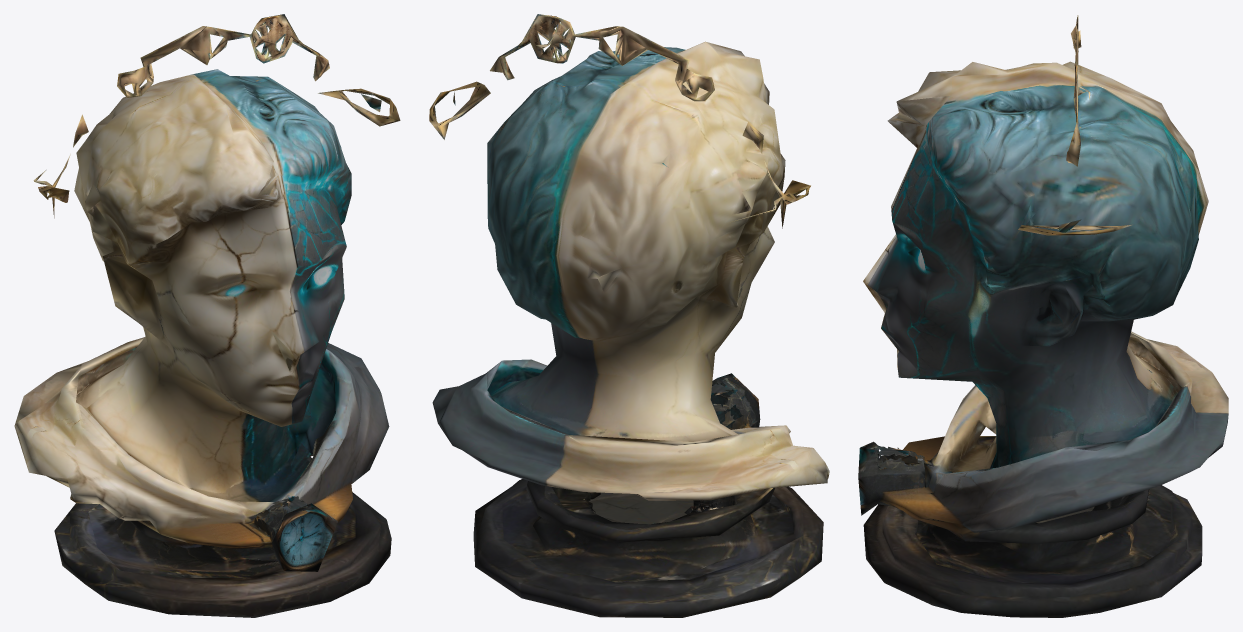
3 renders of one model, left to right at view 1: azimuth 30°, elevation 25°; view 2: azimuth 150°, elevation 25°; view 3: azimuth 270°, elevation 25°, orthographic. The views are drawn at different scales.
Size of the model in its own units: 1.5 by 1.99 by 1.29.
1 material, 1 textured.
